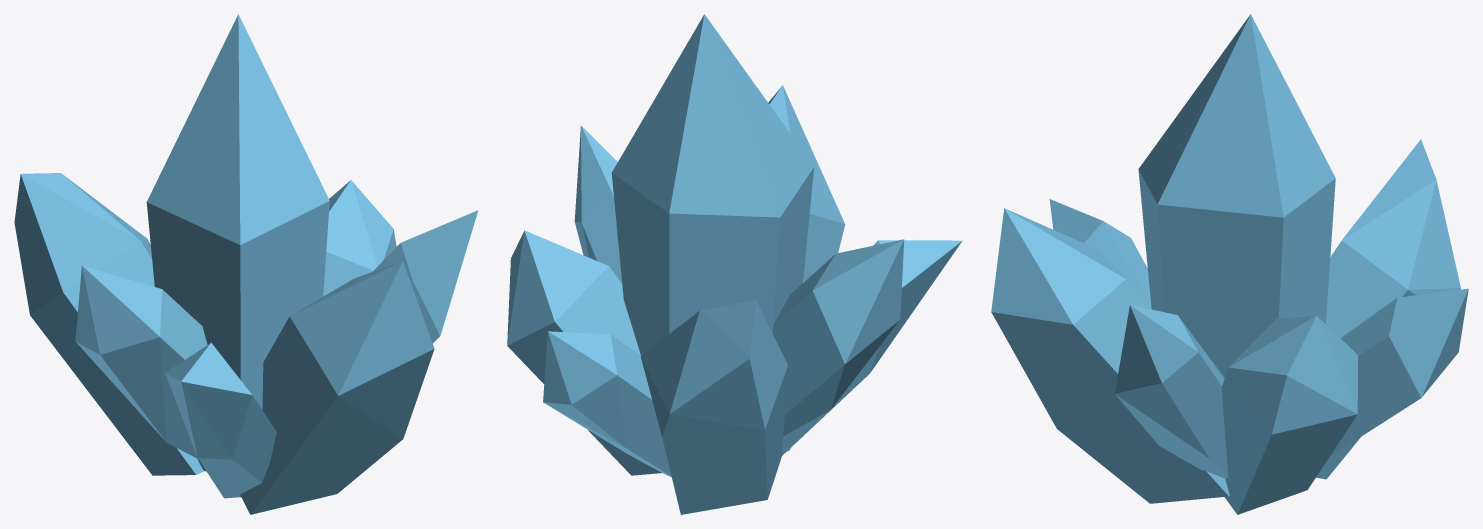
The model's file is DiamondA.fbx.
3 views of the same model, side by side, from view 1: azimuth 30°, elevation 25°; view 2: azimuth 150°, elevation 25°; view 3: azimuth 270°, elevation 25° (orthographic). The views are drawn at different scales.
Visible parts, largest first — view 1: DiamondA; view 2: DiamondA; view 3: DiamondA.
Part boxes in pixels (left/top/right/bottom): DiamondA: left=14, top=14, right=478, bottom=514; DiamondA: left=507, top=14, right=962, bottom=514; DiamondA: left=991, top=14, right=1468, bottom=514.
Size of the model in its own units: 37.78 by 46.76 by 42.83.
